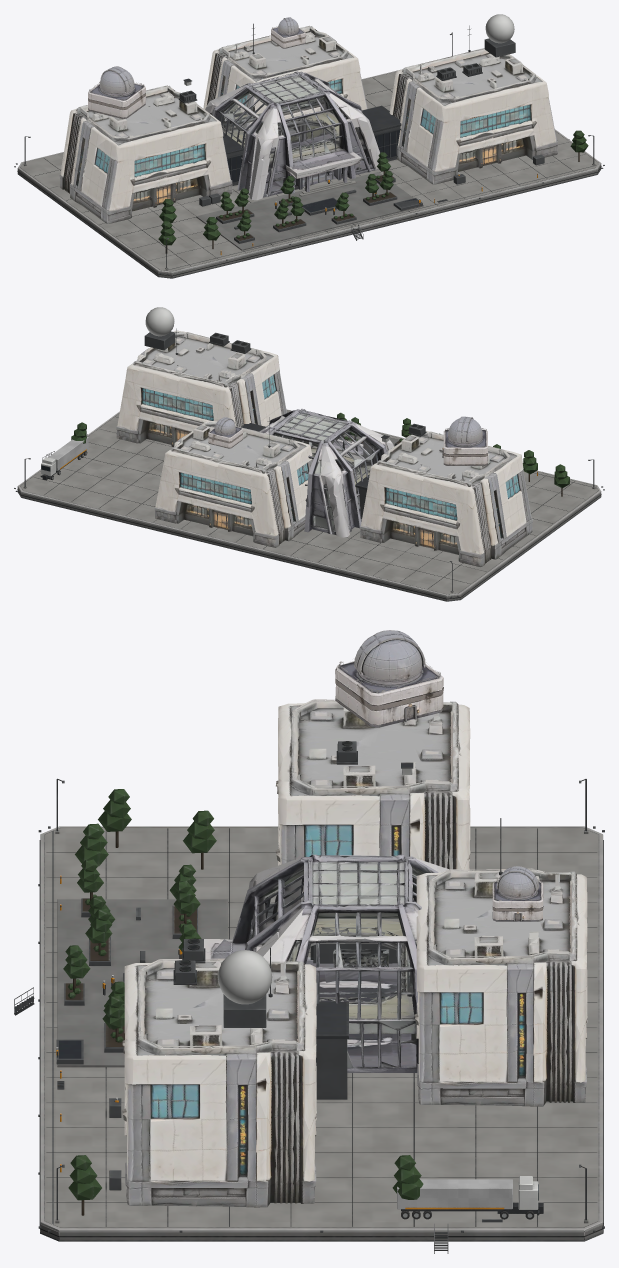
Rendered from university.glb.
The picture shows the model from 3 angles, top to bottom: view 1: azimuth 30°, elevation 25°; view 2: azimuth 150°, elevation 25°; view 3: azimuth 270°, elevation 25°; orthographic projection. The views are drawn at different scales.
Visible parts, largest first — view 1: parts_colony-facetedWing, hull, parts_colony-atriumHall, parts_colony-obsDome; view 2: parts_colony-facetedWing, hull, parts_colony-atriumHall, parts_colony-obsDome, parts_yard-truck; view 3: hull, parts_colony-facetedWing, parts_colony-atriumHall, parts_colony-obsDome, parts_yard-truck.
Part boxes in pixels (x1,y1,x2,y2): parts_colony-facetedWing: (59, 25, 557, 223); hull: (14, 14, 604, 278); parts_colony-atriumHall: (205, 71, 379, 200); parts_colony-obsDome: (88, 17, 305, 118); parts_colony-facetedWing: (116, 330, 532, 566); hull: (14, 307, 604, 601); parts_colony-atriumHall: (259, 408, 393, 537); parts_colony-obsDome: (208, 416, 487, 465); parts_yard-truck: (40, 437, 88, 480); hull: (14, 741, 604, 1253); parts_colony-facetedWing: (122, 699, 587, 1207); parts_colony-atriumHall: (204, 854, 448, 1072); parts_colony-obsDome: (335, 630, 543, 921); parts_yard-truck: (397, 1176, 543, 1219).
Size of the model in its own units: 115 by 32.17 by 69.29.
6 materials, 6 textured.
